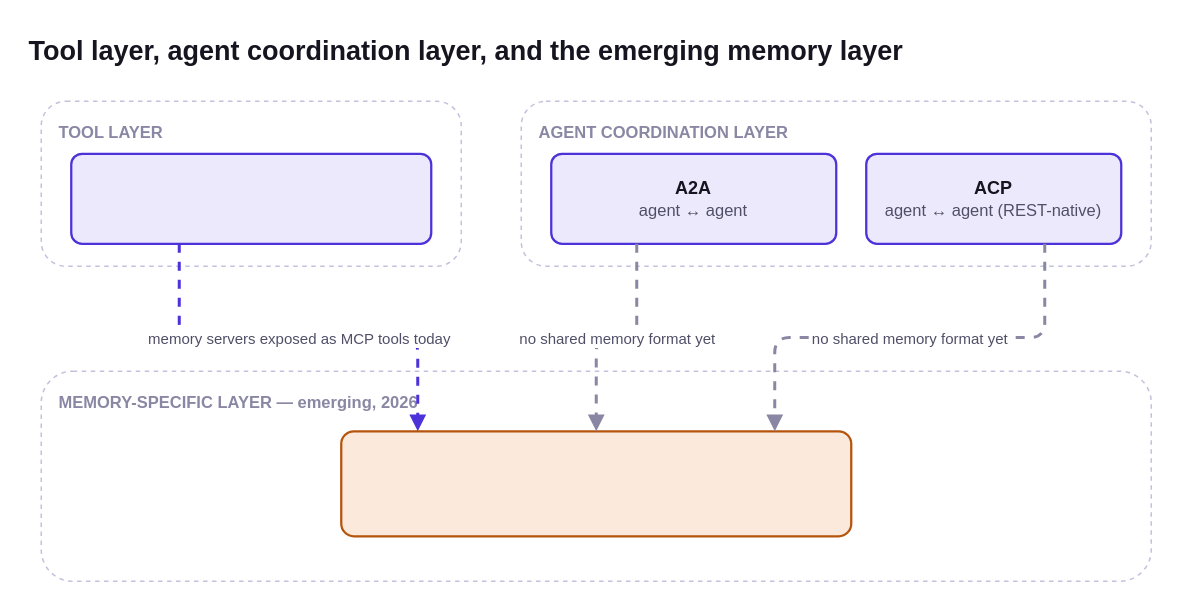
Image size: 1191x608. Some labels were removed from this diagram. Here are the shapes that lost their labels. From the top down, the centre of each, then its label:
At point 250,198: "MCP agent ↔ tools / memory servers".
At point 595,483: "AI Agent Memory Interoperability spec W3C Community Group, proposed May 2026".
